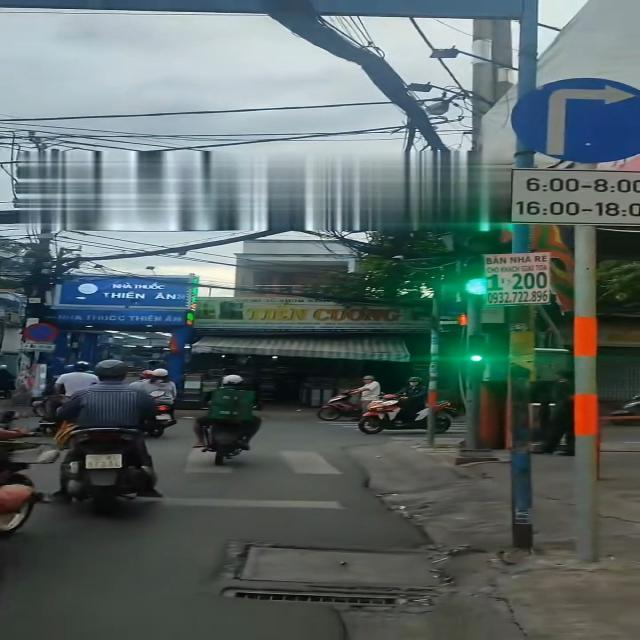301d-cac-xe-chi-duoc-re-phai-2: (506, 76, 640, 162)
